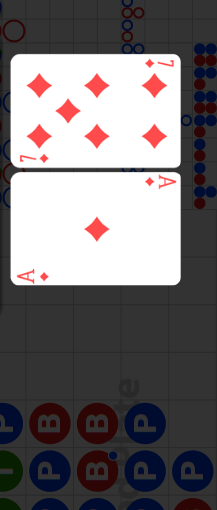7D: (18, 152, 50, 164)
AD: (16, 267, 52, 283)
